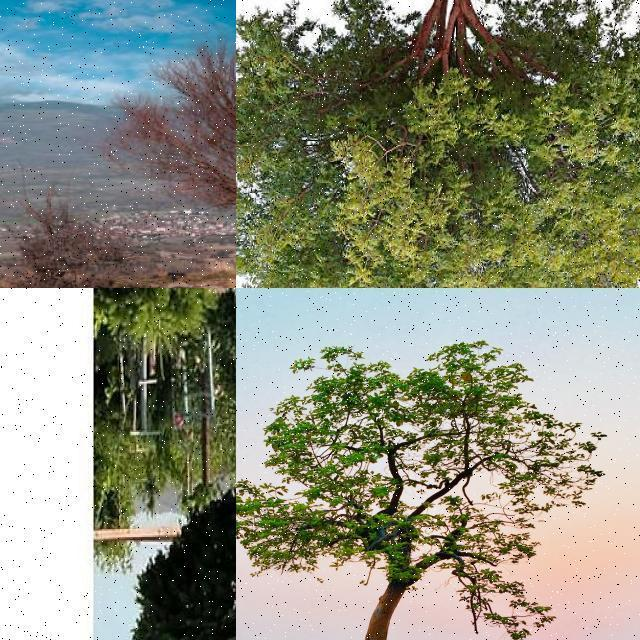tree: (236, 0, 640, 288), (236, 328, 578, 640), (108, 26, 235, 282), (136, 352, 237, 640)
